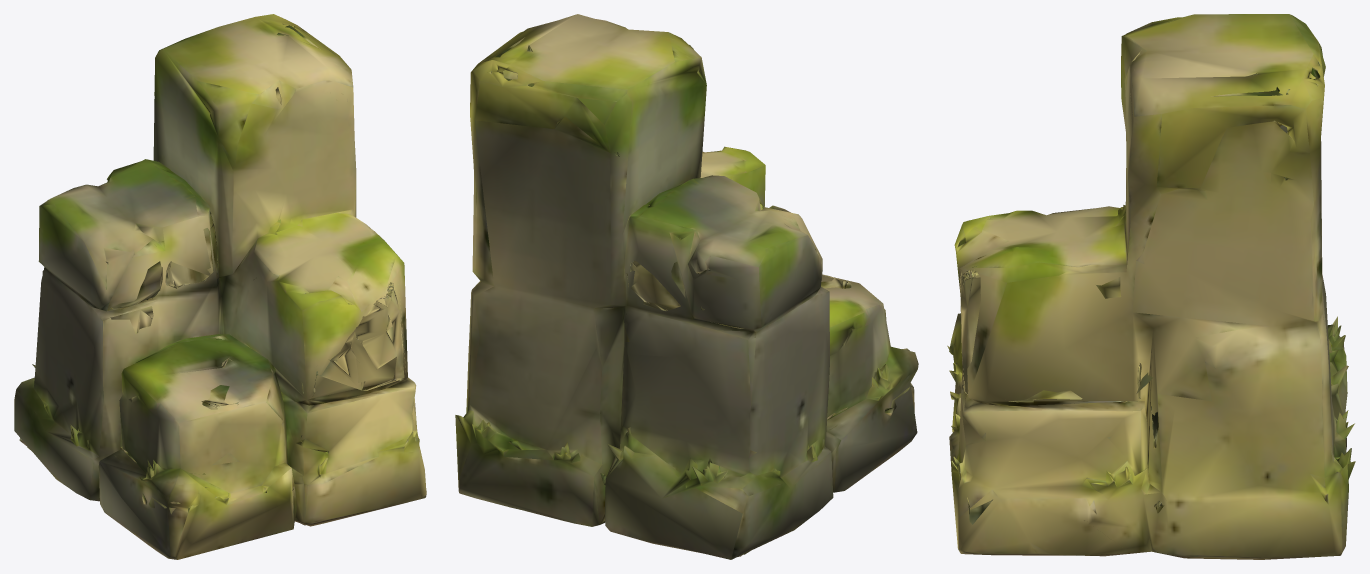
The picture shows the model from 3 angles, left to right: view 1: azimuth 30°, elevation 25°; view 2: azimuth 150°, elevation 25°; view 3: azimuth 270°, elevation 25°; orthographic projection. The views are drawn at different scales.
Visible parts, largest first — view 1: world; view 2: world; view 3: world.
Part boxes in pixels (x1=…): world: x1=14, y1=14, x2=426, y2=559; world: x1=455, y1=14, x2=918, y2=559; world: x1=947, y1=14, x2=1355, y2=559.
Bounding box in the file's own units: 0.7305 × 0.9991 × 0.7745.
Materials: 1 (1 with a texture image).
